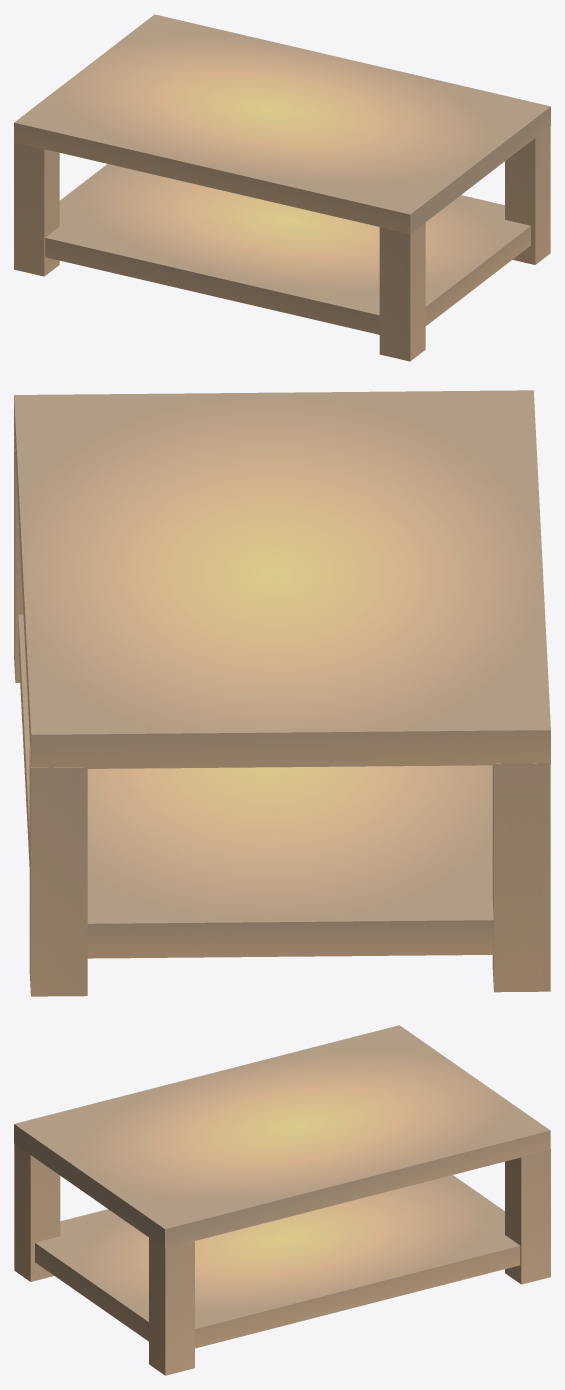
File: table.glb
3 views of the same model, one above another, from view 1: azimuth 30°, elevation 25°; view 2: azimuth 150°, elevation 25°; view 3: azimuth 270°, elevation 25° (orthographic). The views are drawn at different scales.
Parts seen in each view (by area): view 1: table; view 2: table; view 3: table.
Part boxes in pixels (x1,y1,x2,y2): table: (14, 14, 550, 361); table: (14, 390, 550, 996); table: (14, 1025, 550, 1375).
Bounding box in the file's own units: 1.1 × 0.3688 × 1.22.
1 material, 1 textured.
